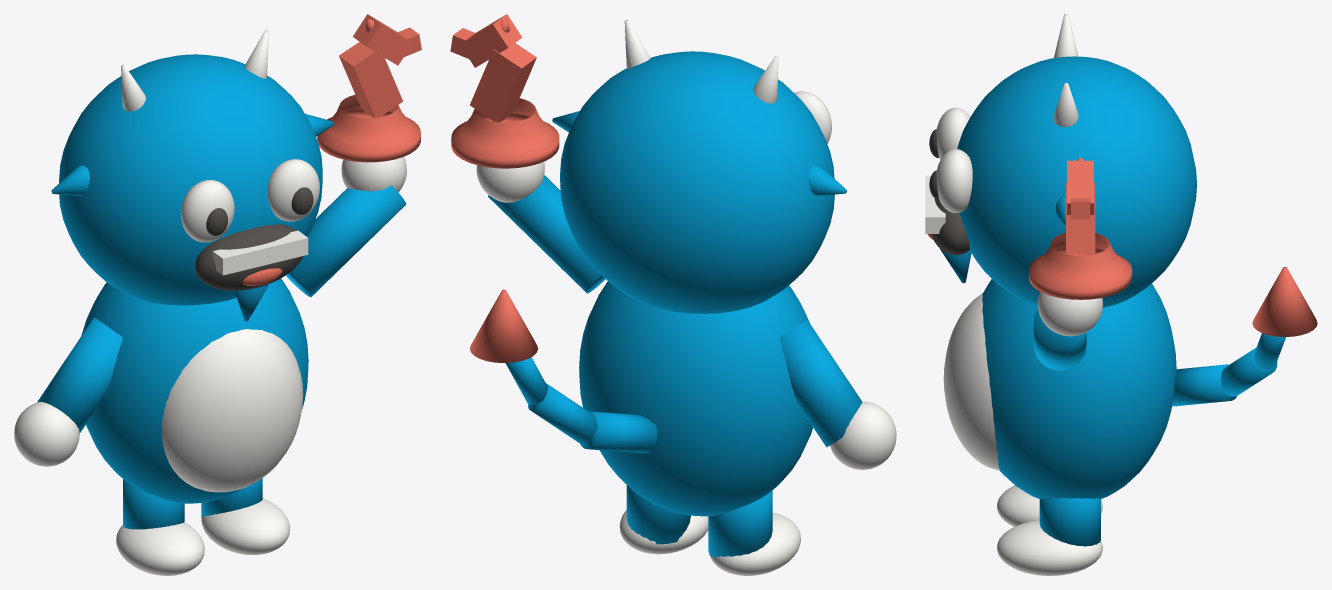
The model's file is vinny.glb.
The picture shows the model from 3 angles, left to right: view 1: azimuth 30°, elevation 25°; view 2: azimuth 150°, elevation 25°; view 3: azimuth 270°, elevation 25°; orthographic projection. The views are drawn at different scales.
Visible parts, largest first — view 1: head, body, belly, armR, armL, knight_base, footL, footR, handL, mouth, kneck, teeth (+10 smaller); view 2: head, body, armL, knight_base, armR, kneck, handL, legL, spade, footL, tail0, legR (+9 smaller); view 3: head, body, belly, knight_base, footR, spade, legR, handR, armR, eyeR, tail0, tail1 (+10 smaller).
Boxes of the visible parts, x1,y1,x2,y2 form: head: (59, 54, 322, 305); body: (81, 278, 308, 503); belly: (162, 329, 303, 492); armR: (286, 185, 406, 297); armL: (37, 317, 122, 433); knight_base: (317, 95, 420, 162); footL: (116, 522, 204, 575); footR: (201, 498, 290, 554); handL: (14, 402, 79, 466); mouth: (195, 224, 303, 290); kneck: (339, 42, 403, 117); teeth: (212, 230, 308, 275); head: (560, 51, 834, 313); body: (579, 281, 812, 516); armL: (779, 319, 862, 447); knight_base: (451, 98, 559, 168); armR: (488, 175, 605, 293); kneck: (470, 43, 536, 122); handL: (830, 401, 896, 469); legL: (708, 490, 772, 557); spade: (470, 289, 538, 362); footL: (709, 512, 800, 575); tail0: (580, 411, 657, 453); legR: (626, 485, 690, 544); head: (957, 56, 1196, 307); body: (982, 279, 1176, 499); belly: (943, 293, 999, 470); knight_base: (1029, 233, 1132, 299); footR: (997, 520, 1102, 575); spade: (1252, 267, 1317, 336); legR: (1039, 498, 1100, 546); handR: (1037, 291, 1102, 336); armR: (1033, 308, 1086, 370); eyeR: (936, 149, 972, 212); tail0: (1172, 364, 1236, 406); tail1: (1220, 347, 1277, 396).
Size of the model in its own units: 2.3 by 2.7 by 1.92.
